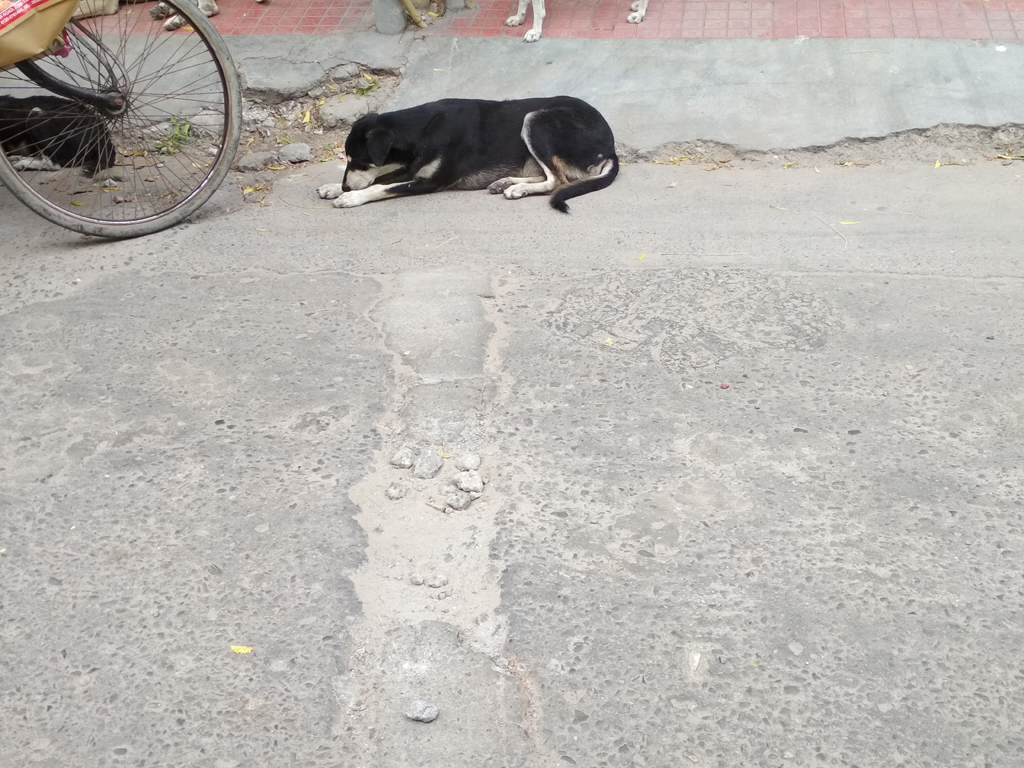dog: (315, 96, 619, 213), (1, 95, 119, 178)
